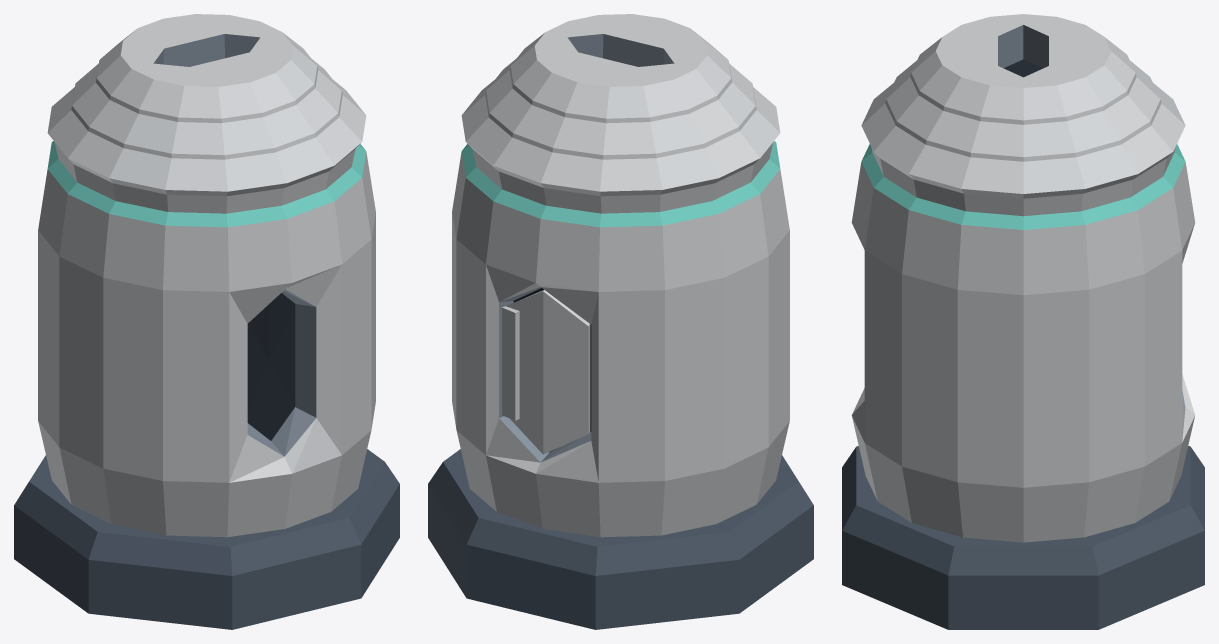
Rendered from recycling-capsule-bin-348f5b.glb.
3 renders of one model, left to right at view 1: azimuth 30°, elevation 25°; view 2: azimuth 150°, elevation 25°; view 3: azimuth 270°, elevation 25°, orthographic.
Parts seen in each view (by area): view 1: bin-shell; view 2: bin-shell, access-door-leaf; view 3: bin-shell.
Boxes of the visible parts, x1,y1,x2,y2 form: bin-shell: [14, 14, 399, 629]; bin-shell: [428, 14, 813, 629]; access-door-leaf: [502, 290, 590, 454]; bin-shell: [842, 14, 1204, 629].
Size of the model in its own units: 0.7853 by 1.2 by 0.7853.
